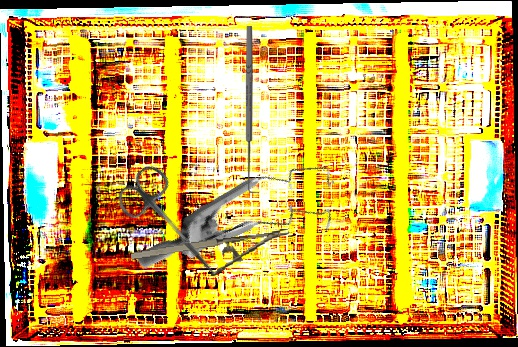Hook Surgical: (244, 26, 260, 193)
Iris Scissors: (109, 159, 239, 294)
Needle Holder: (130, 228, 294, 286)
Speculum: (134, 108, 359, 343)
